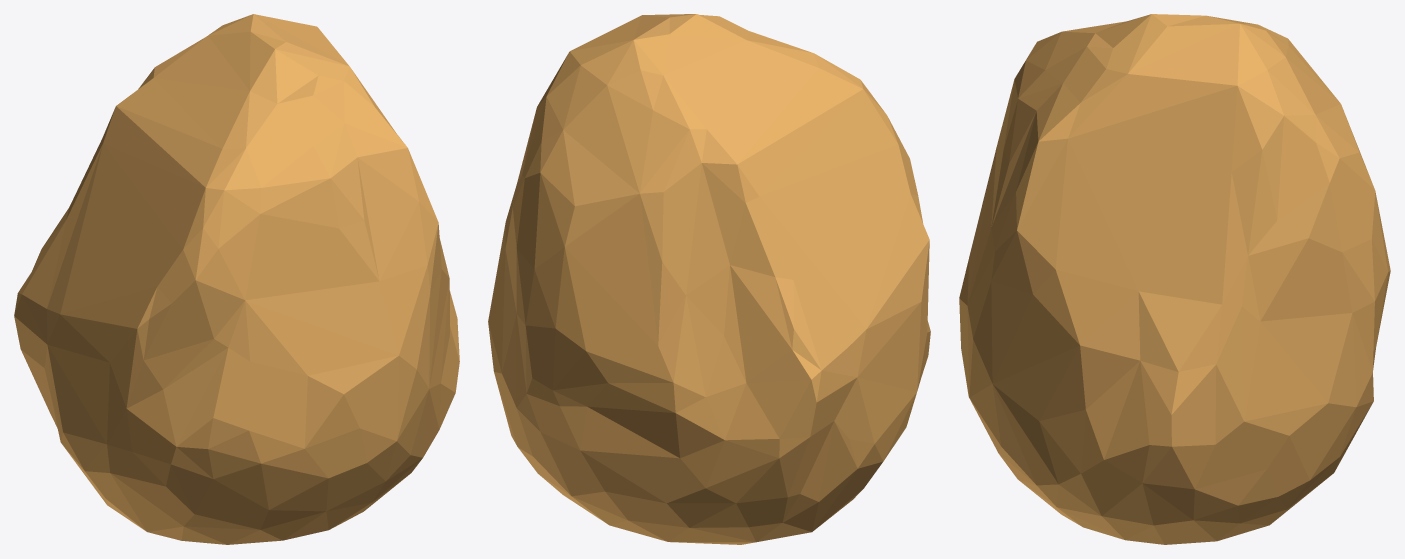
The model's file is Rock2.fbx.
3 renders of one model, left to right at view 1: azimuth 30°, elevation 25°; view 2: azimuth 150°, elevation 25°; view 3: azimuth 270°, elevation 25°, orthographic. The views are drawn at different scales.
Visible parts, largest first — view 1: Sphere.021; view 2: Sphere.021; view 3: Sphere.021.
Part boxes in pixels (<box>): Sphere.021: <box>14,14,459,544</box>; Sphere.021: <box>488,14,930,544</box>; Sphere.021: <box>959,14,1390,544</box>.
Size of the model in its own units: 146 by 170 by 136.
